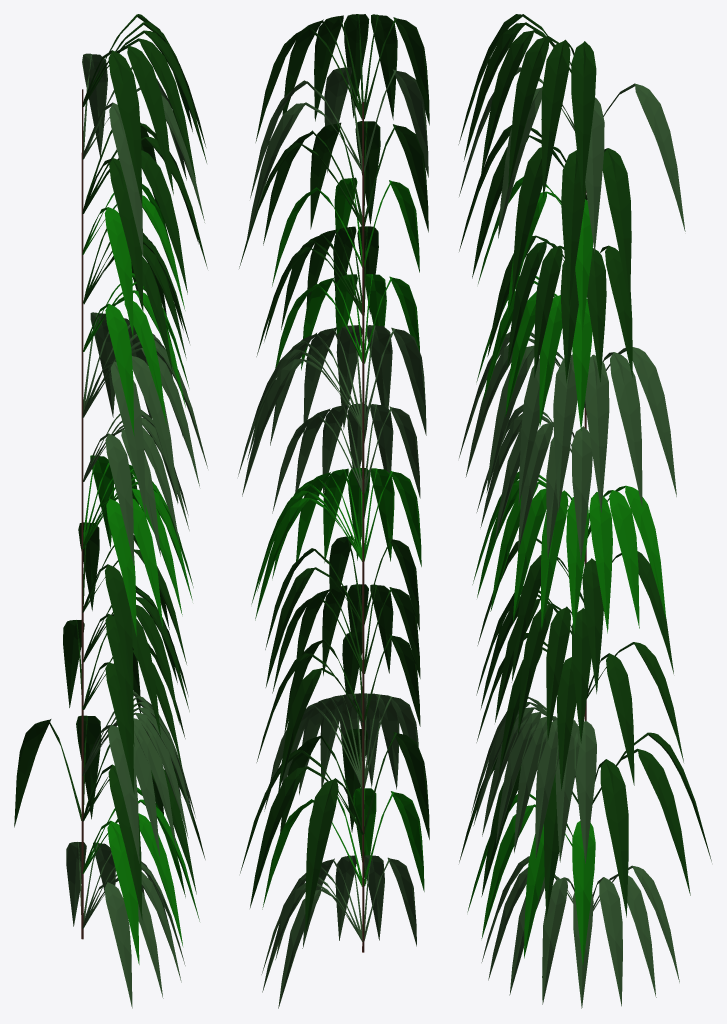
Rendered from plant1_quarter.fbx.
The picture shows the model from 3 angles, left to right: view 1: azimuth 30°, elevation 25°; view 2: azimuth 150°, elevation 25°; view 3: azimuth 270°, elevation 25°; orthographic projection.
Parts seen in each view (by area): view 1: Circle.055; view 2: Circle.055; view 3: Circle.055.
Boxes of the visible parts, bbox=[...] form: Circle.055: bbox=[14, 14, 207, 1008]; Circle.055: bbox=[238, 14, 429, 1008]; Circle.055: bbox=[458, 14, 711, 1008].
Bounding box in the file's own units: 32.11 × 234 × 56.65.
